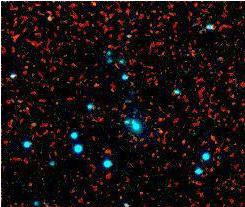star: (86, 0, 116, 19)
